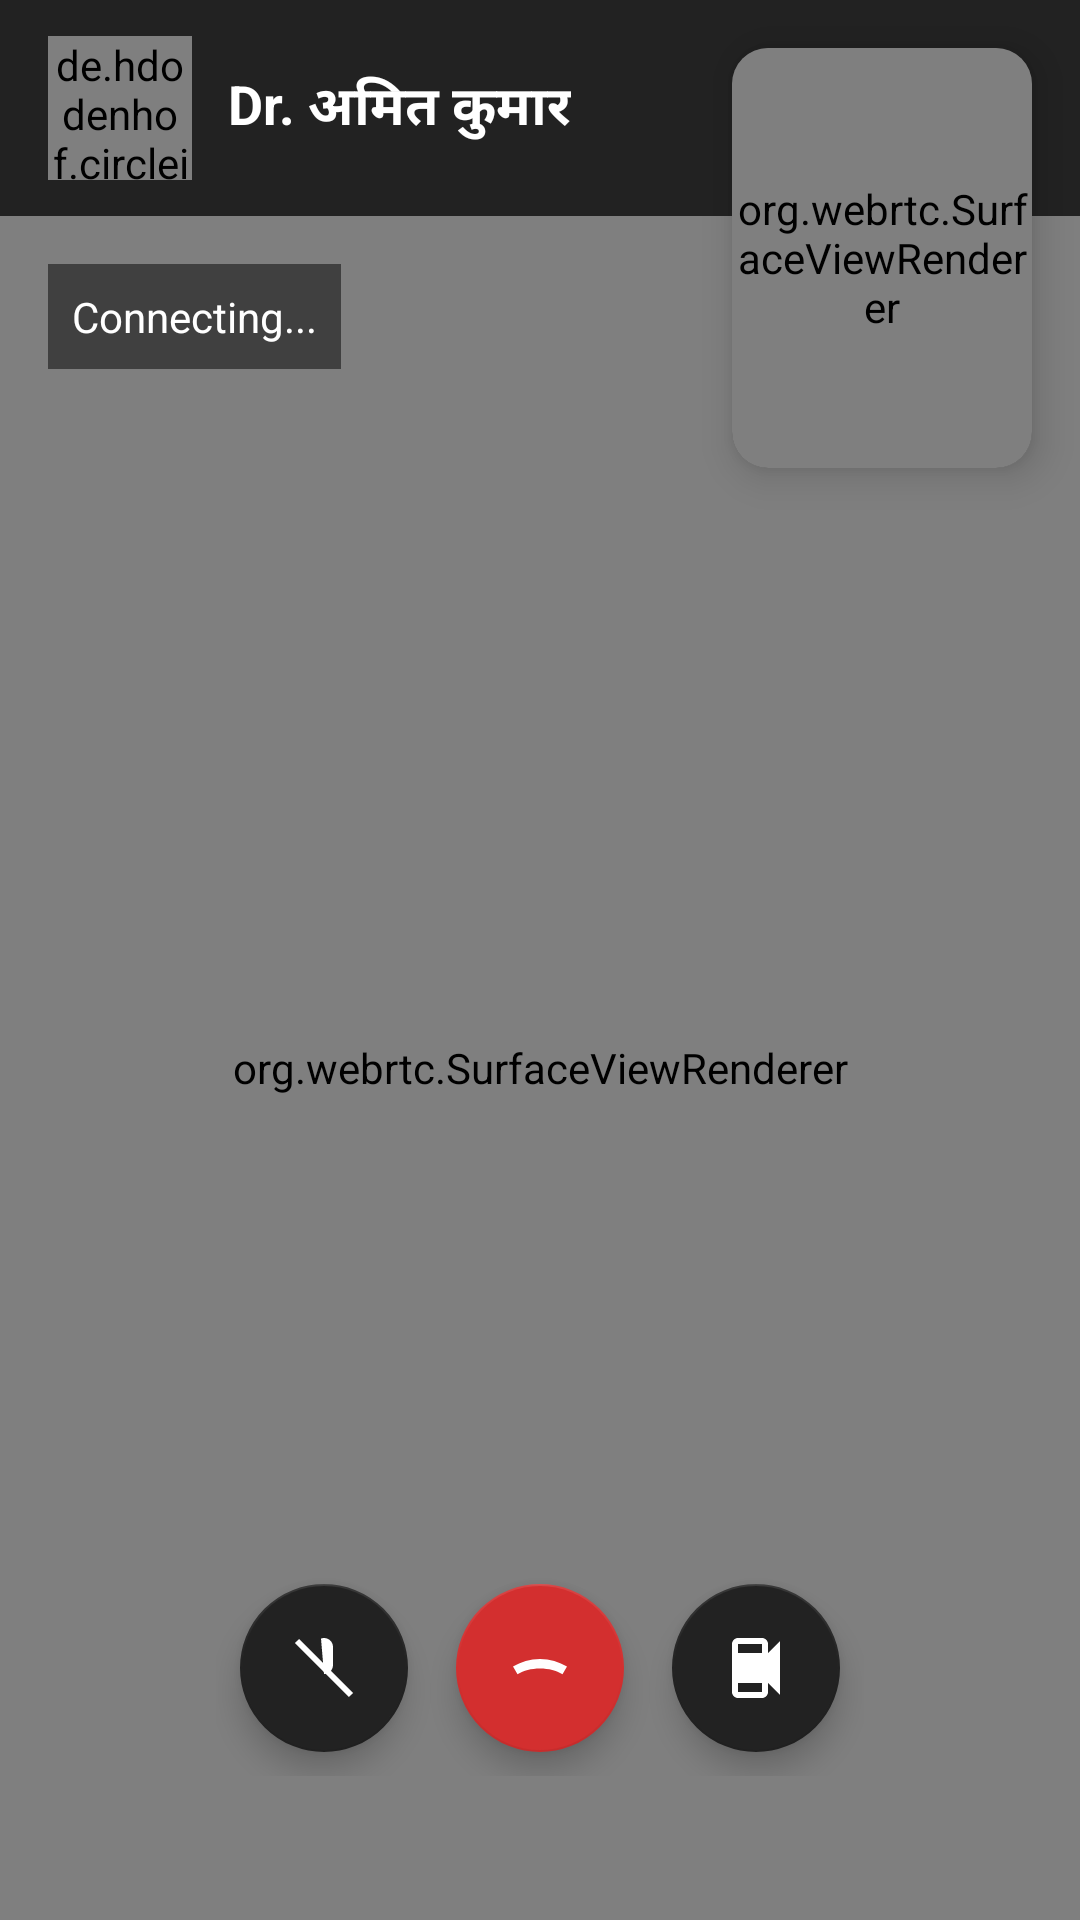

Icon click points for this 1080w x 1920h phone screenshot, format (x,y):
End Call: (540,1668)
Mute: (324,1668)
